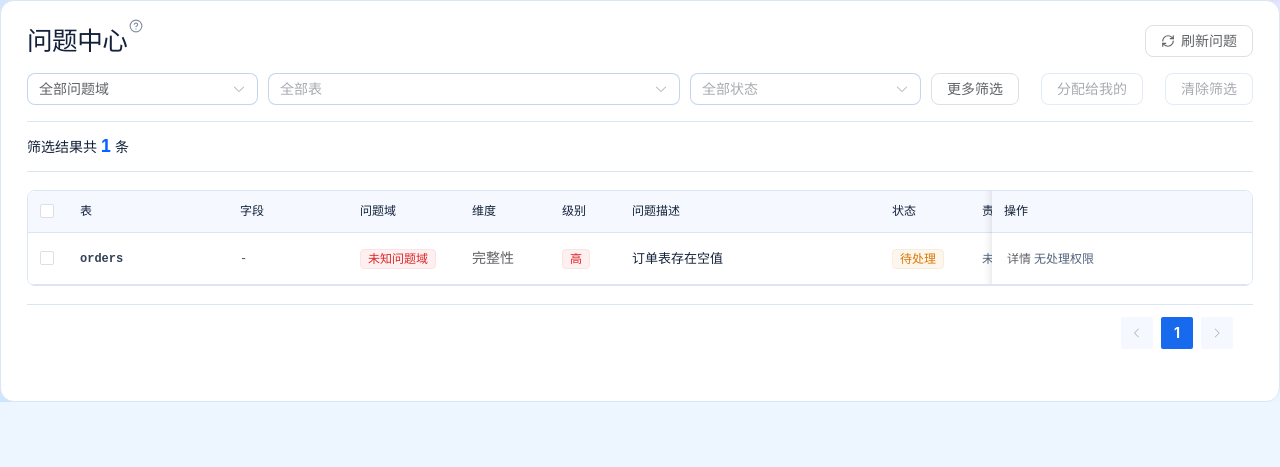
Test case: 问题中心的范围、筛选和结果表达 › 范围由公共上下文提供，页面只有问题筛选且刷新进入标题操作区
This screenshot has width=1280, height=467.
Expected: the number of "ElSelect" components is 3, [27,73,258,105]; [268,73,680,105]; [690,73,921,105]
Click the button "更多筛选" at (975, 89), box [931,73,1019,105]
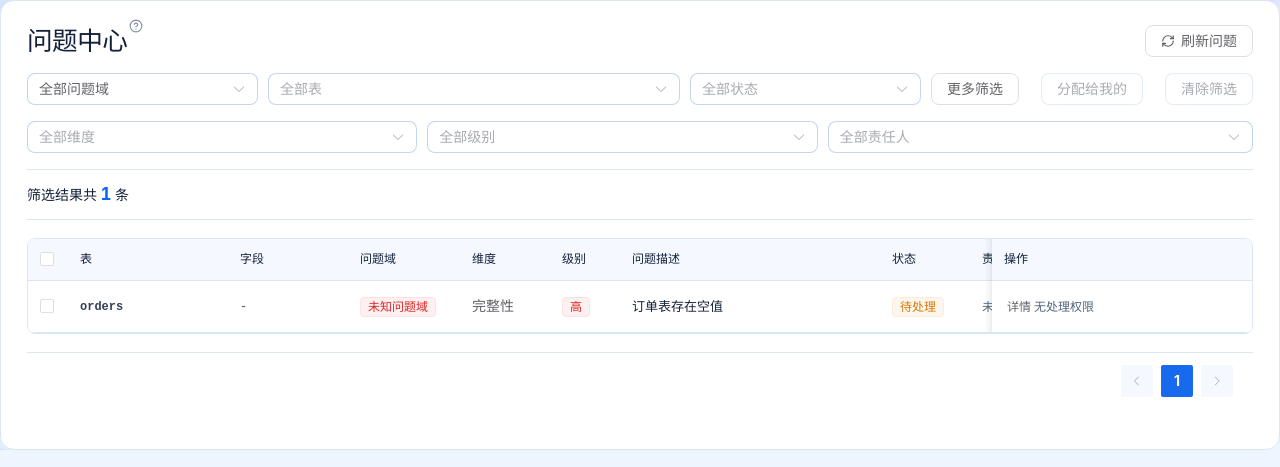
Expected: the element with class "issue-workbench__filters" shows "分配给我的", [1041,73,1143,105]
Now the element with id "issue-advanced-filters" is shown, box [27,121,1253,169]
Now the number of "ElSelect" components is 3, box [27,121,417,153]; [427,121,818,153]; [828,121,1253,153]
